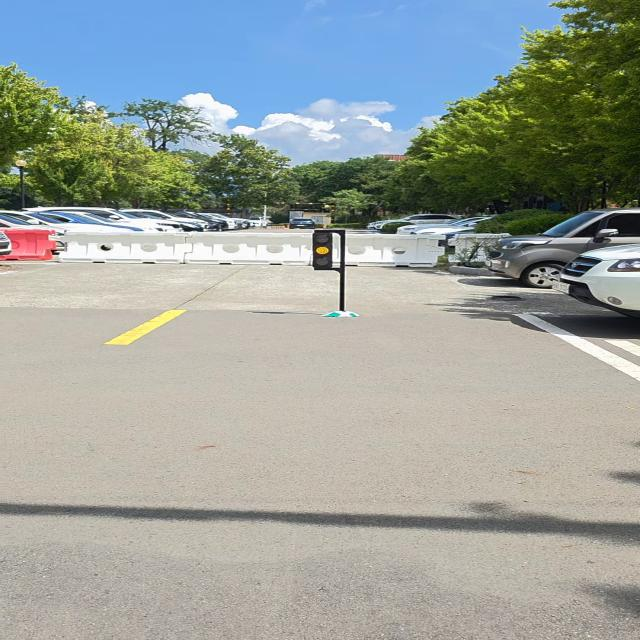yellow: (311, 231, 335, 269)
